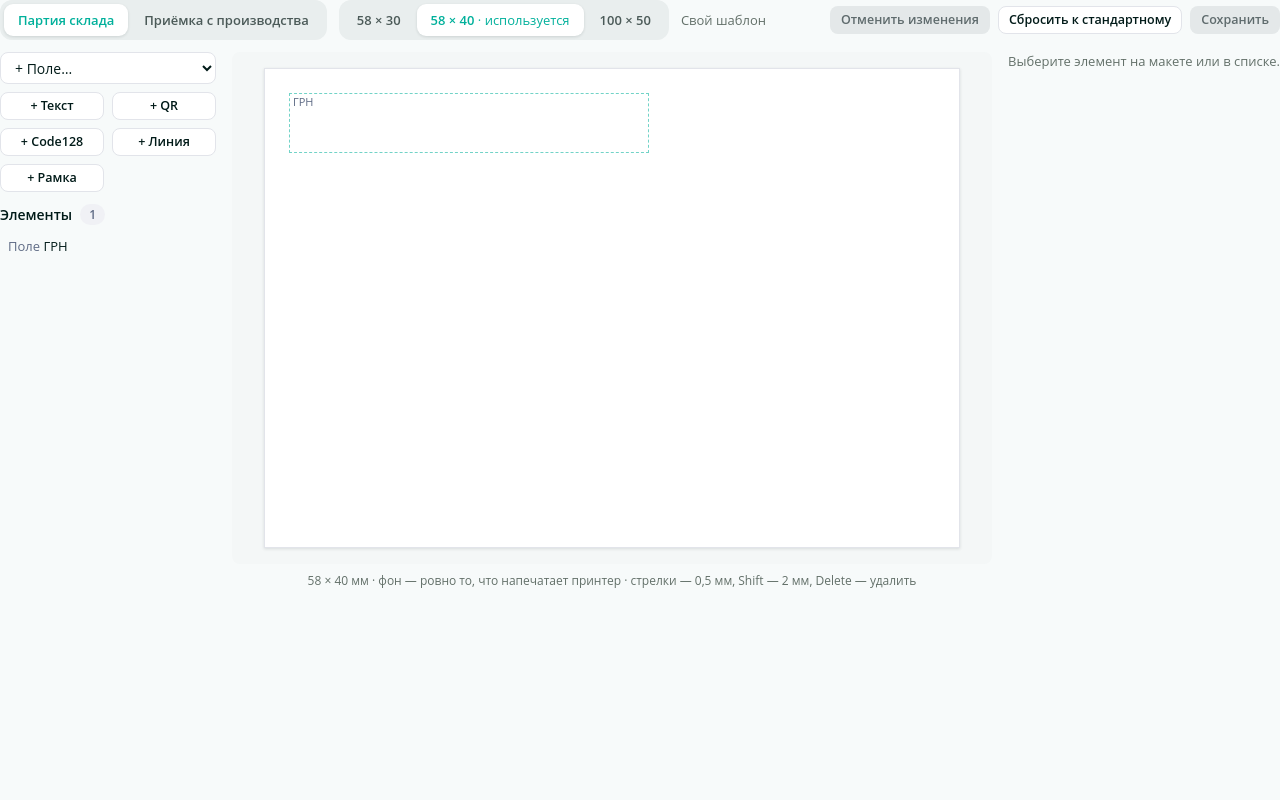
Test: «Сбросить к стандартному» asks first, then sends DELETE and shows the default
Click the button "Сбросить к стандартному".
click(1090, 20)  # box 998,6 -> 1182,34
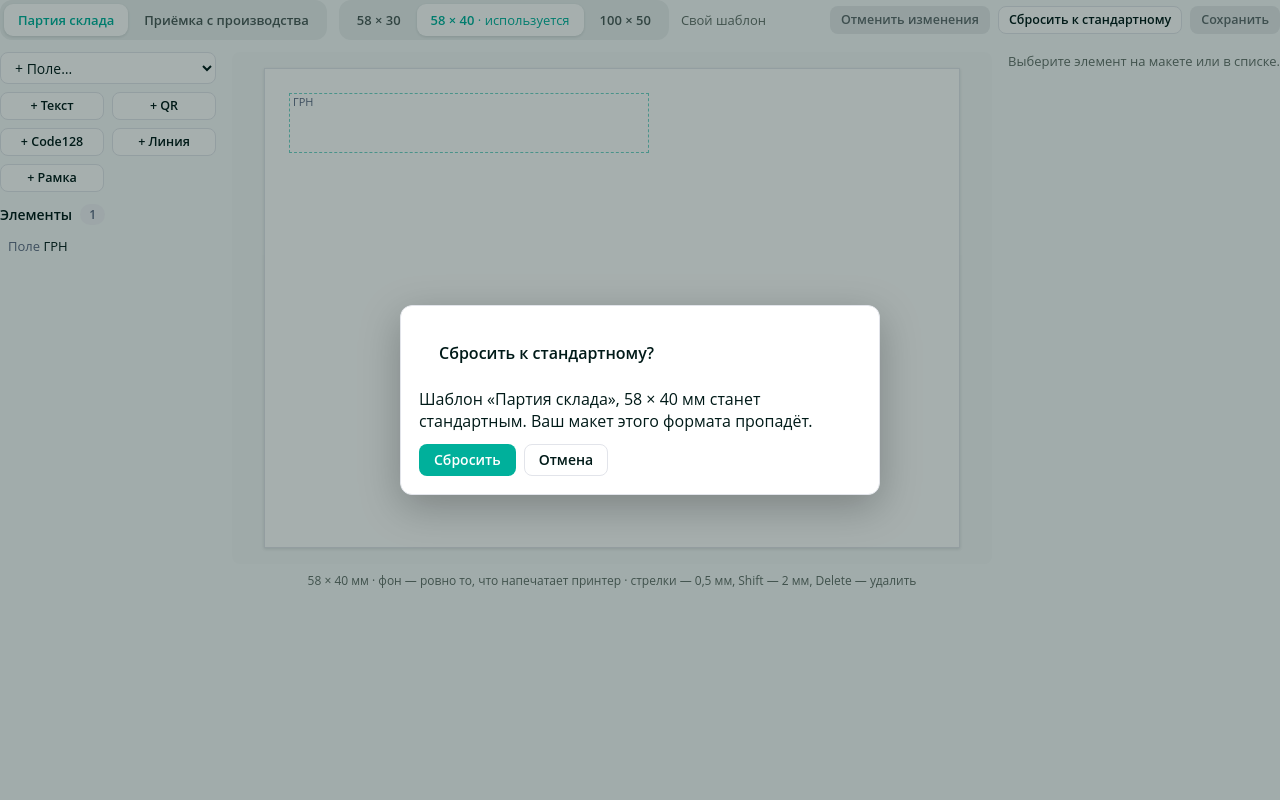
Click the button "Сбросить".
click(467, 460)  # box 419,444 -> 516,476
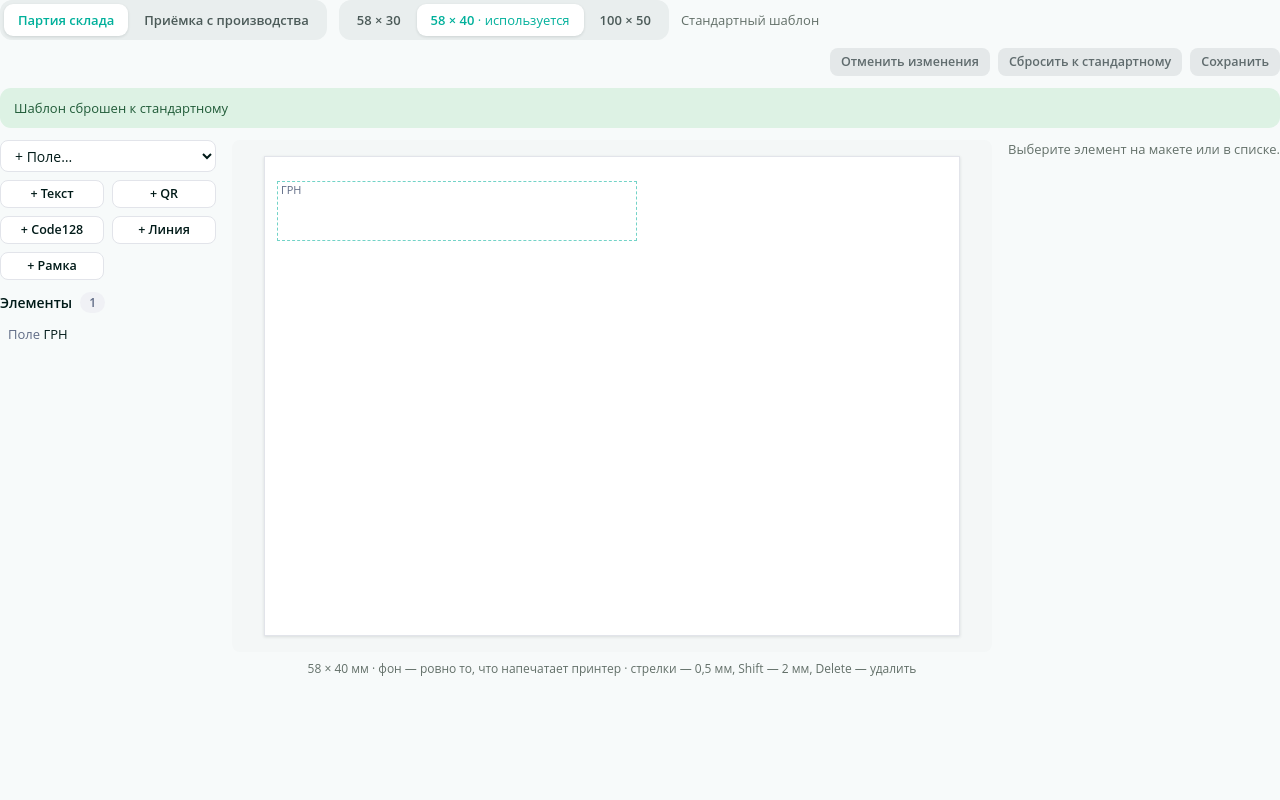
expect the text "Шаблон сброшен к стандартному" is shown: met, box 0,88 -> 1279,128
expect the text "Стандартный шаблон" is shown: met, box 681,11 -> 819,29
expect the button "Сбросить к стандартному" is disabled: met, box 998,48 -> 1182,76
